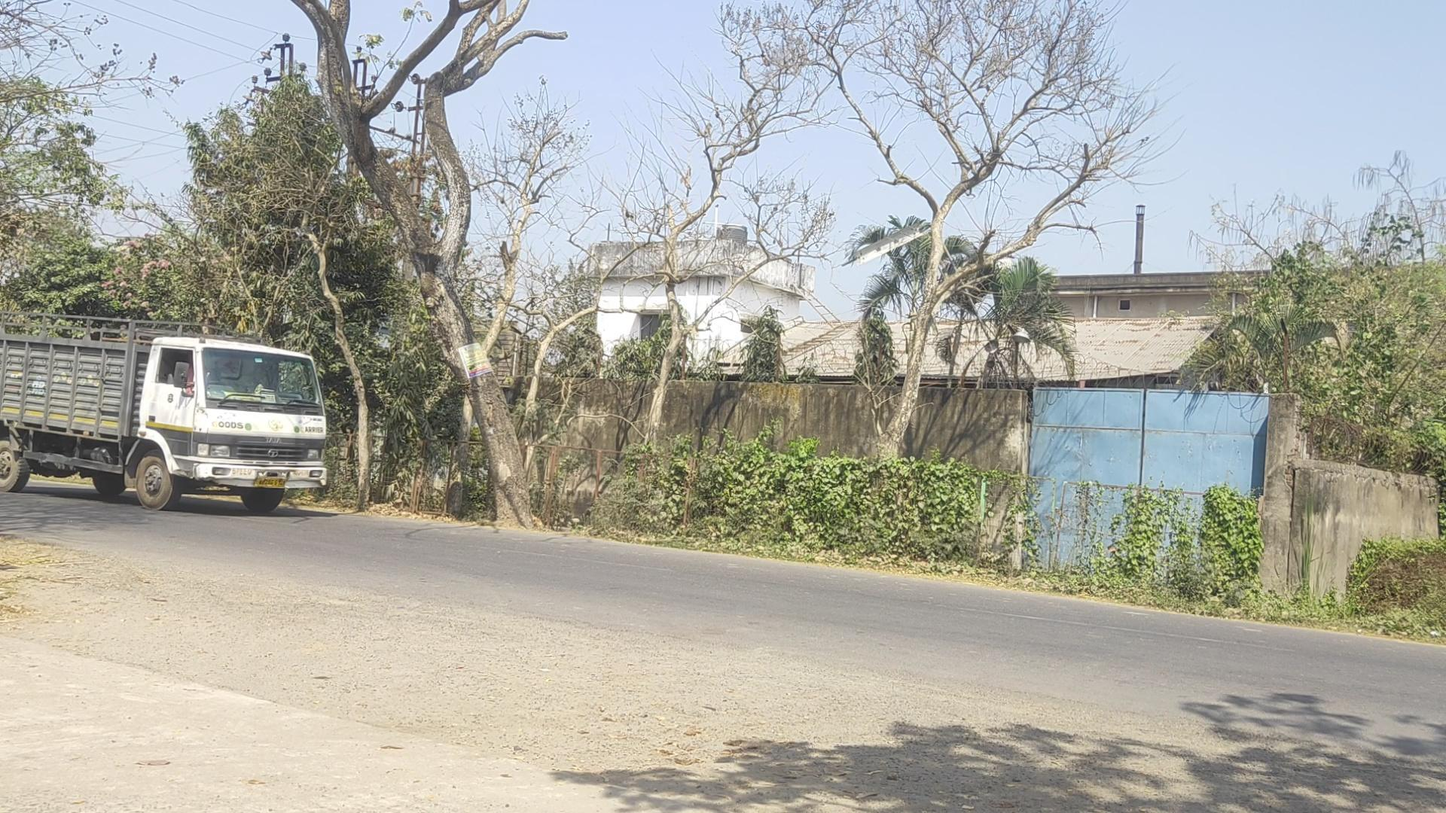truck: (1, 309, 327, 512)
